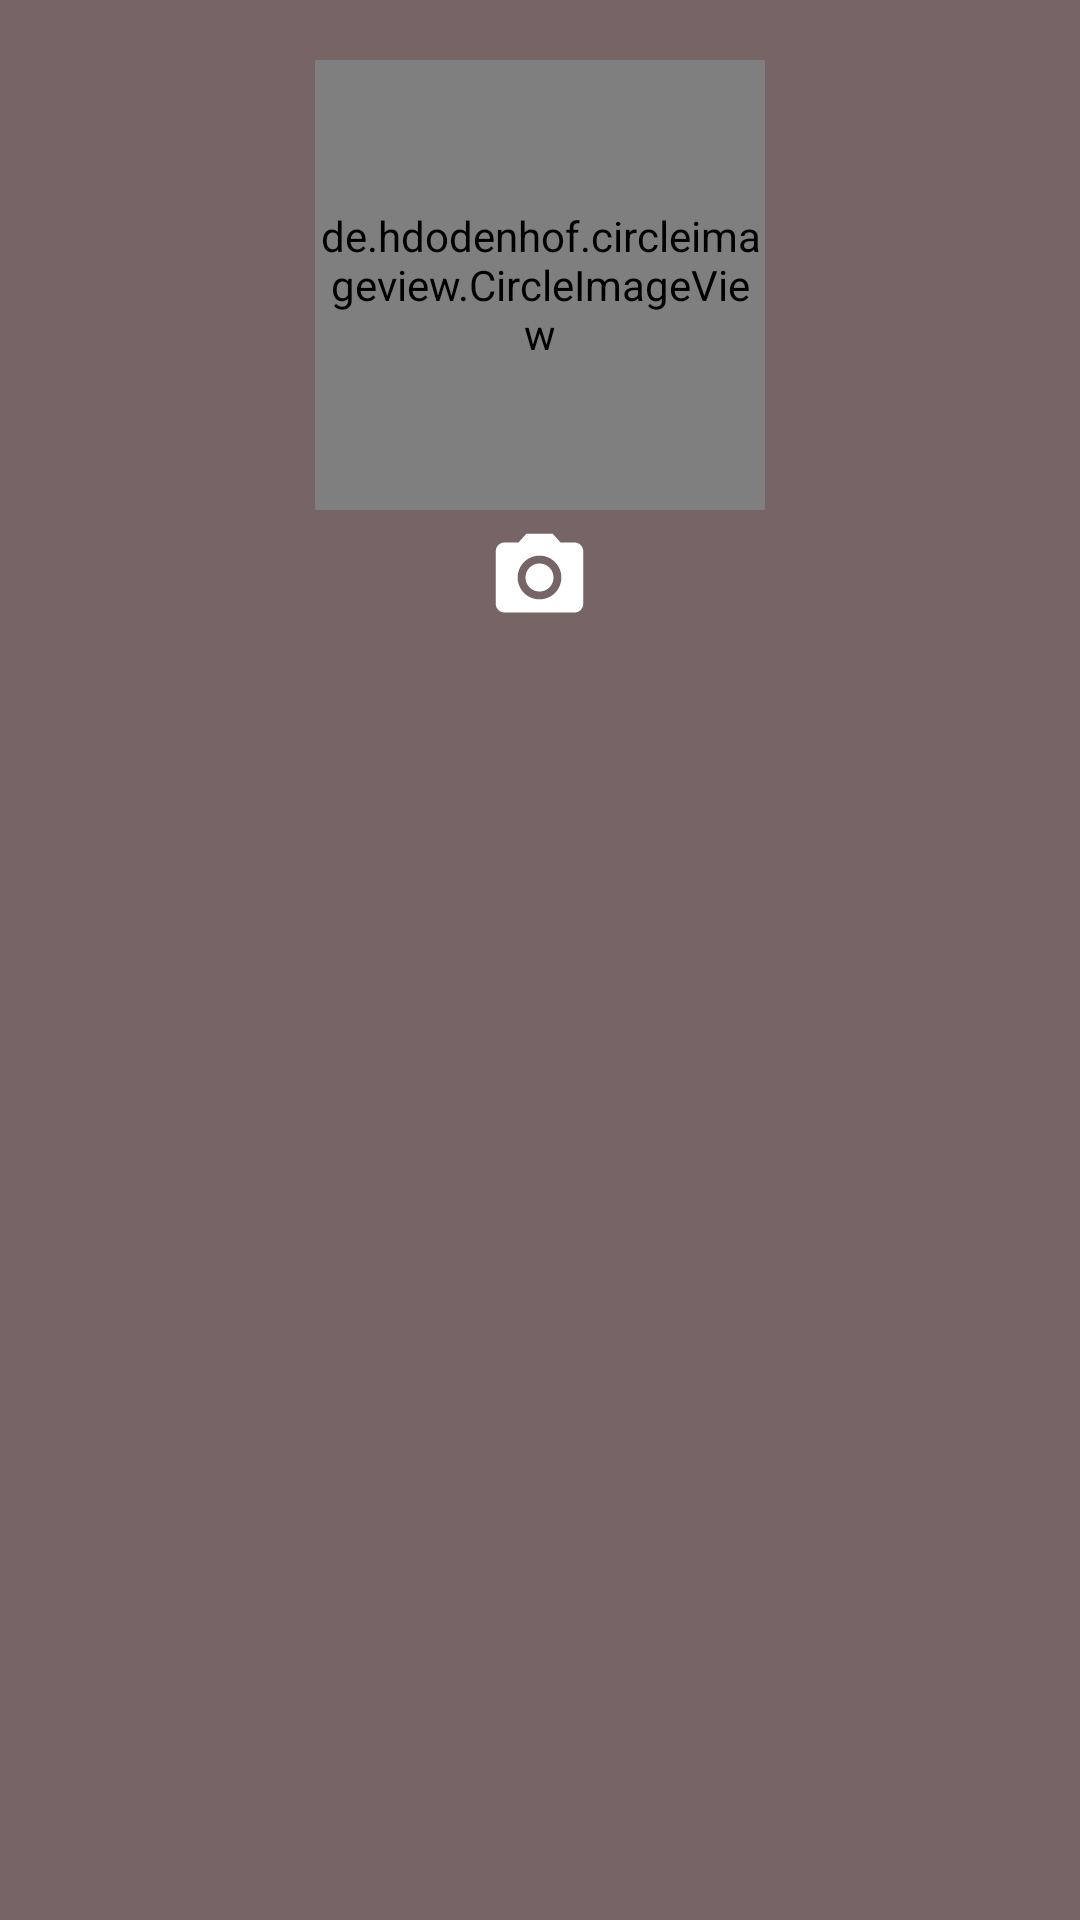

Screen size 1080px x 1920px. Icon name, then its box in pixels as (x1, y1, x2, y2):
cameraiconedit: (495, 533, 584, 613)
